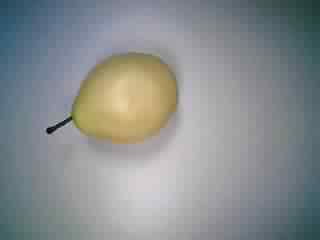pear: (42, 46, 187, 156)
